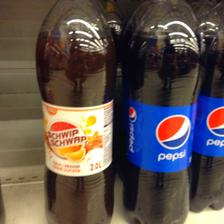Soda: (119, 0, 205, 224), (34, 0, 119, 224)
